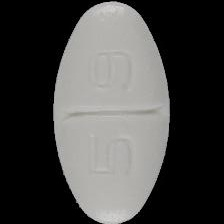50268-756: (0, 0, 224, 224)
